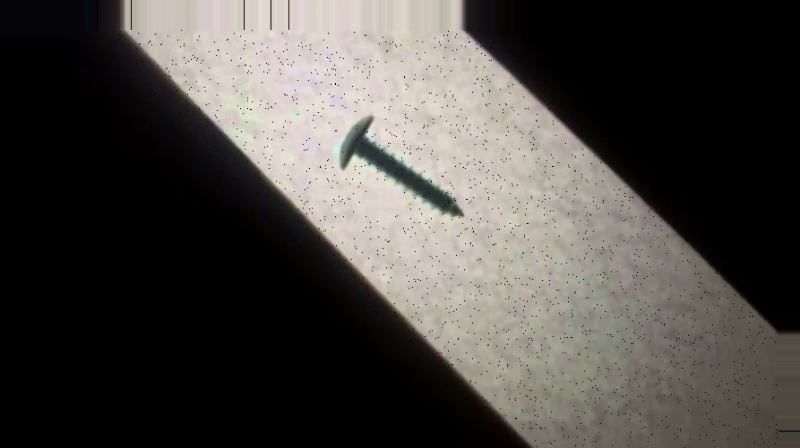S003: (333, 113, 468, 218)
